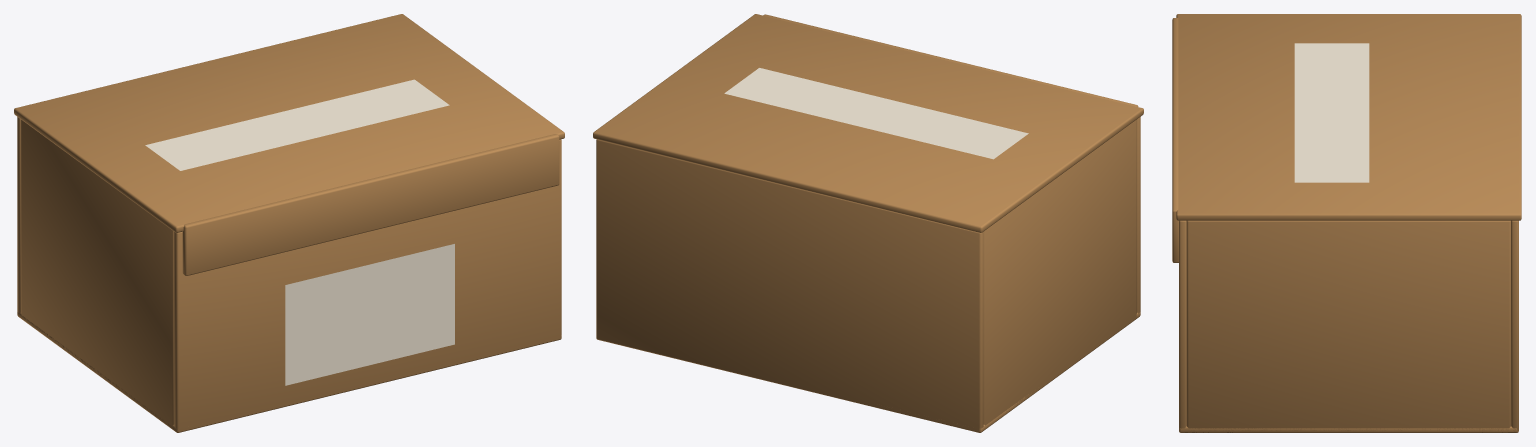
File: marlowby-box.glb
The picture shows the model from 3 angles, left to right: view 1: azimuth 30°, elevation 25°; view 2: azimuth 150°, elevation 25°; view 3: azimuth 270°, elevation 25°; orthographic projection. The views are drawn at different scales.
Parts seen in each view (by area): view 1: Box, Lid, Label, LidPrint; view 2: Box, Lid, LidPrint; view 3: Box, Lid, LidPrint.
Boxes of the visible parts, <box> form: Box: <box>17,117,561,432</box>; Lid: <box>14,14,564,275</box>; Label: <box>285,244,454,385</box>; LidPrint: <box>145,79,449,170</box>; Box: <box>596,117,1140,432</box>; Lid: <box>593,14,1143,232</box>; LidPrint: <box>724,68,1028,159</box>; Box: <box>1179,220,1518,432</box>; Lid: <box>1172,14,1521,262</box>; LidPrint: <box>1294,43,1369,182</box>.
Bounding box in the file's own units: 0.364 × 0.1866 × 0.267.
